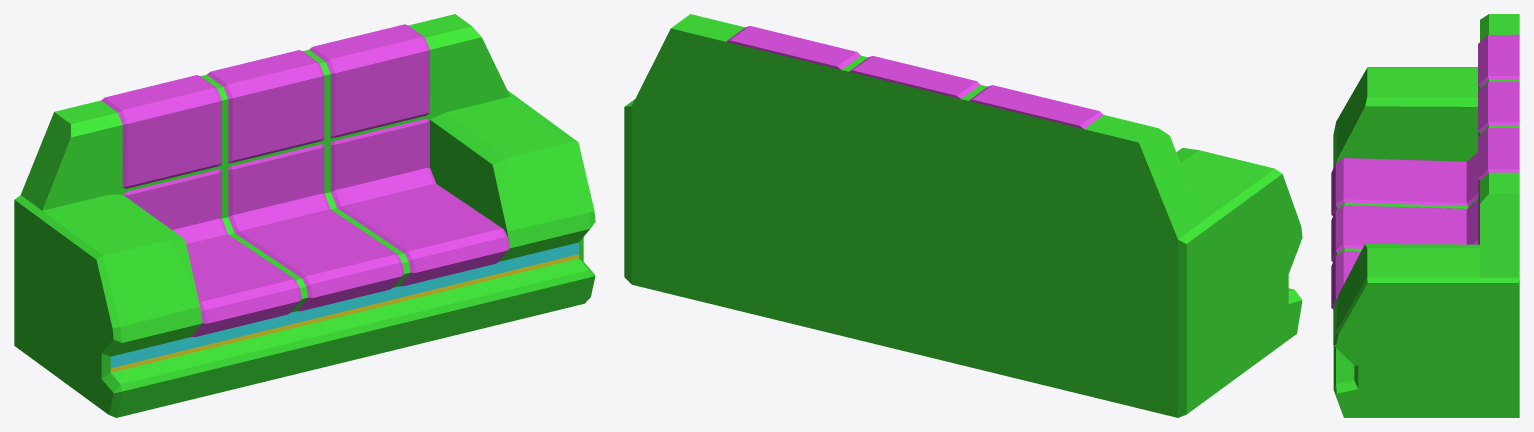
File: Chair_11_B.fbx
3 renders of one model, left to right at view 1: azimuth 30°, elevation 25°; view 2: azimuth 150°, elevation 25°; view 3: azimuth 270°, elevation 25°, orthographic. The views are drawn at different scales.
Visible parts, largest first — view 1: Chair_11_B; view 2: Chair_11_B; view 3: Chair_11_B.
Part boxes in pixels (x1=…): Chair_11_B: x1=14, y1=14, x2=595, y2=417; Chair_11_B: x1=624, y1=14, x2=1302, y2=417; Chair_11_B: x1=1331, y1=14, x2=1519, y2=417.
Bounding box in the file's own units: 229 × 104 × 84.47.
